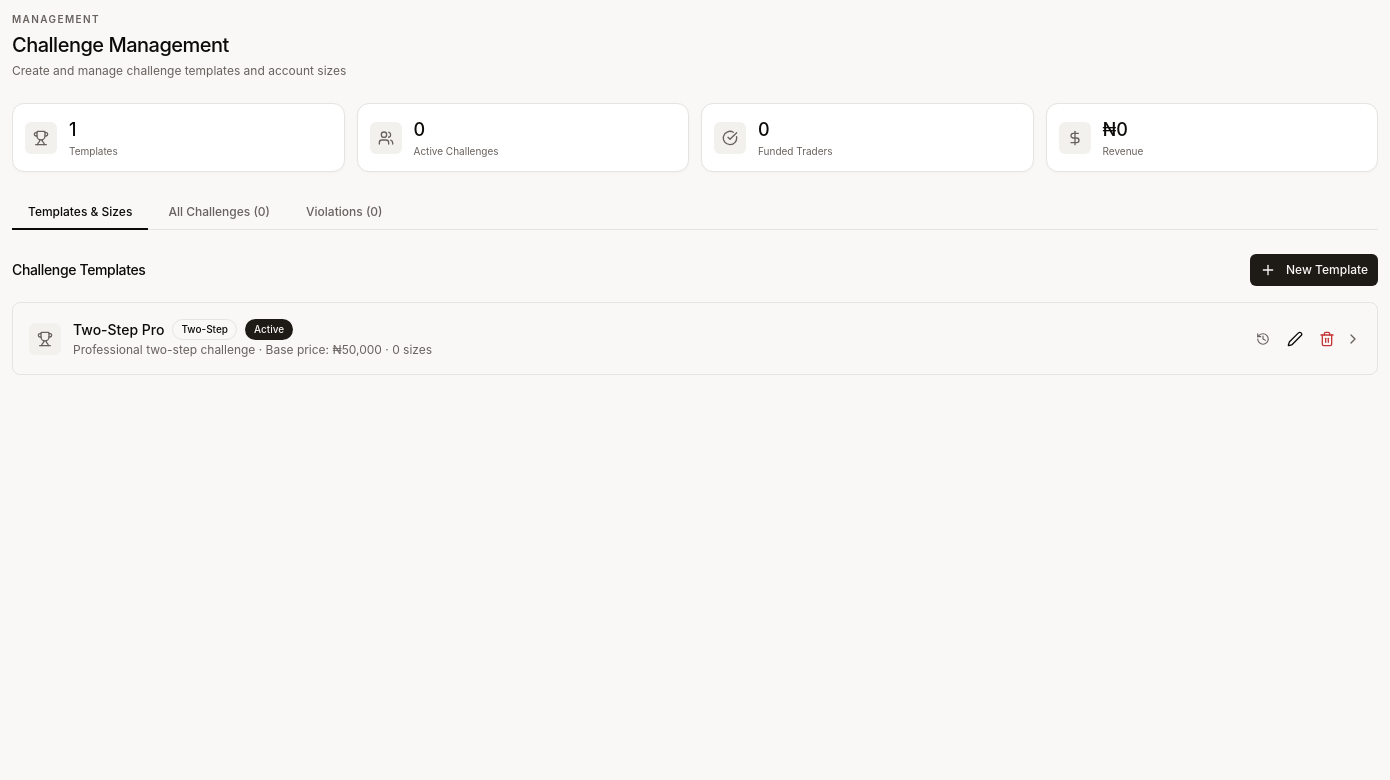
Scenario: AdminChallenges Page › Account Sizes › shows empty state when no sizes
Click the text "Two-Step Pro".
click(119, 330)  # box [73, 320, 164, 340]
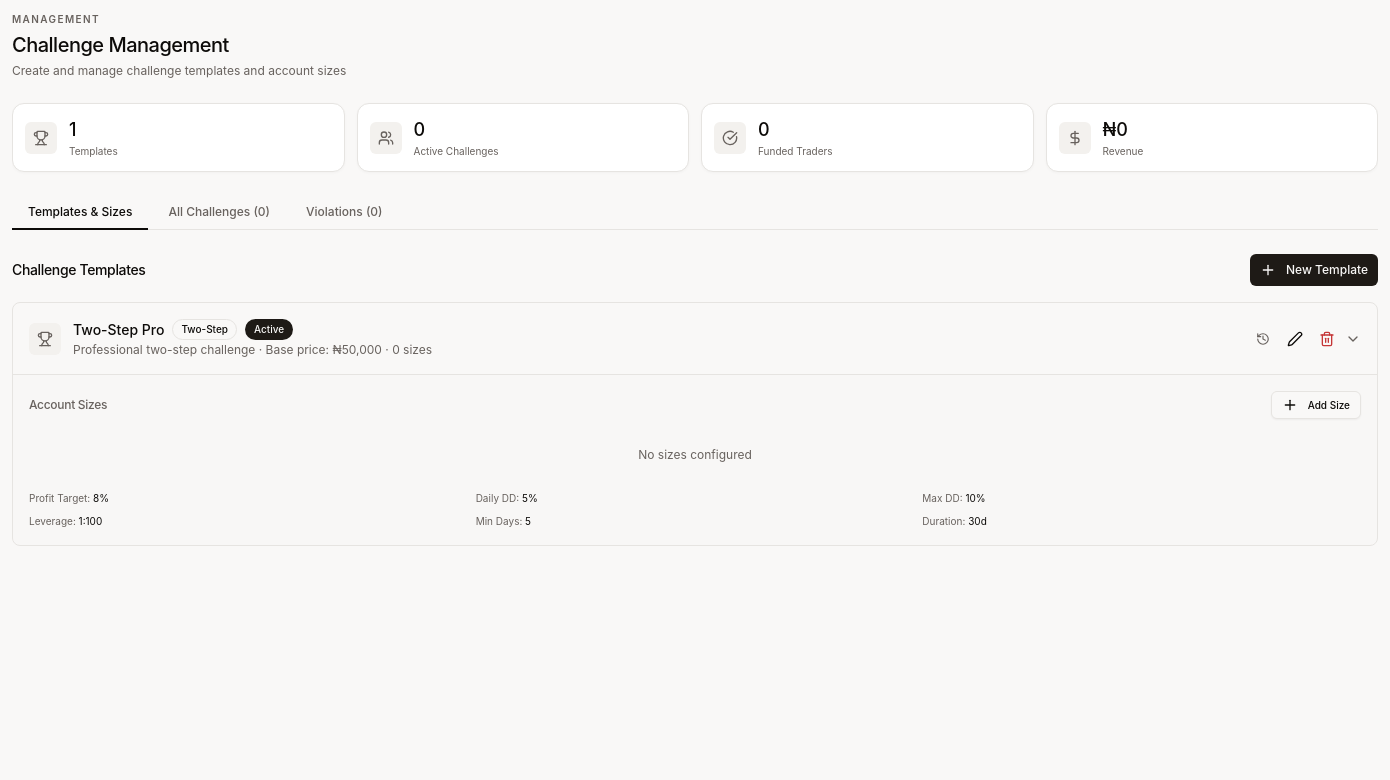
Now the text "No sizes configured" is shown, box [638, 447, 752, 462]
